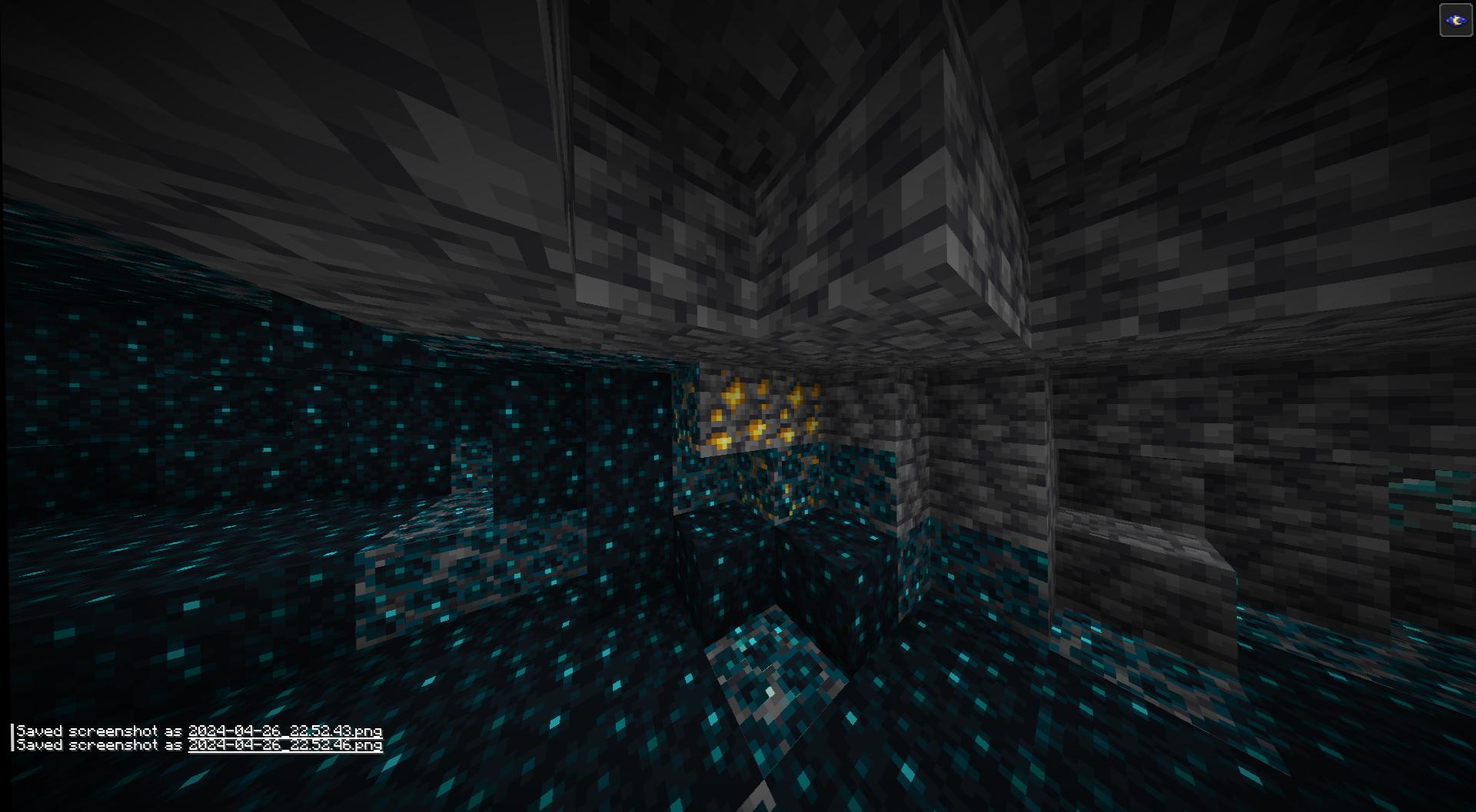gold ore: (702, 365, 772, 450), (773, 372, 829, 442)
